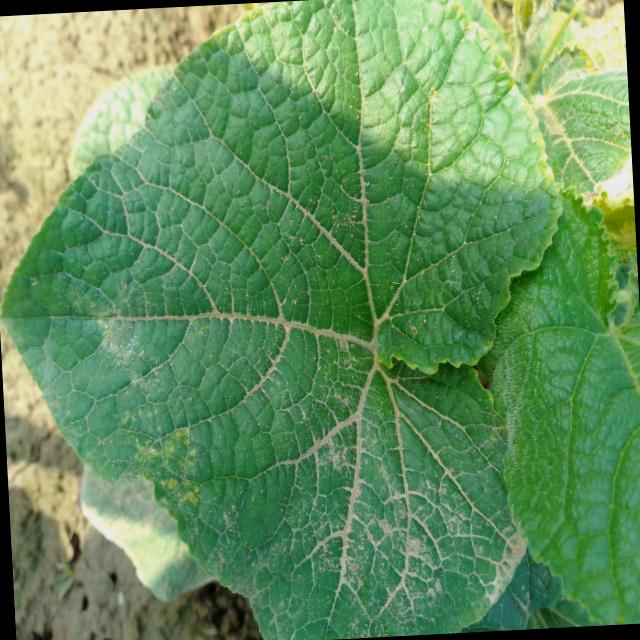cucumber_healthy: (0, 0, 587, 640), (473, 187, 640, 627)
